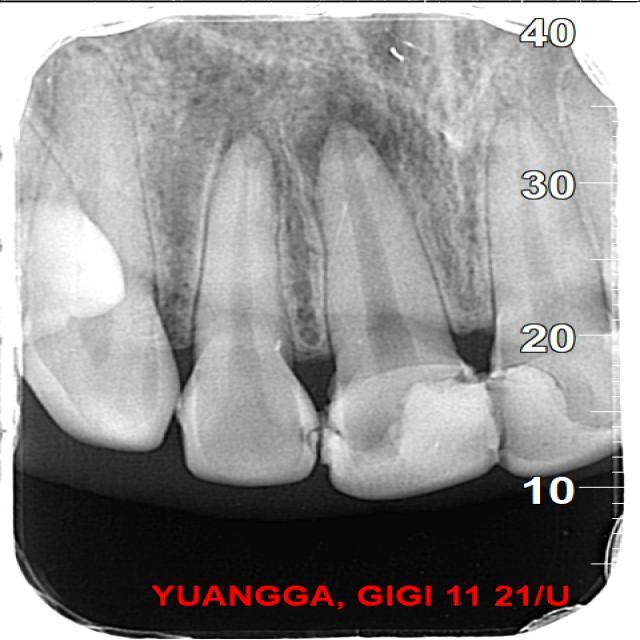individual-tooth-8tto: (323, 121, 503, 494), (175, 132, 318, 480)
